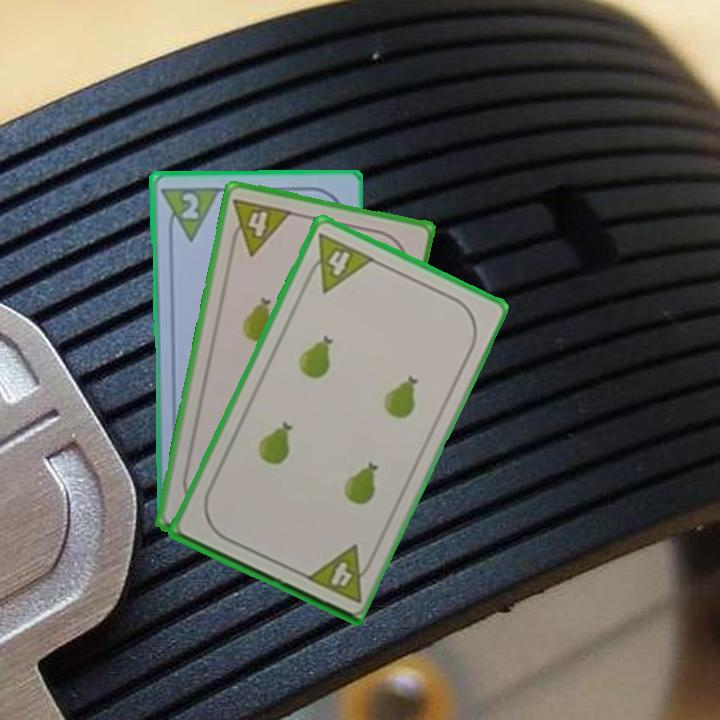2p: (157, 183, 222, 243)
4p: (300, 228, 377, 296), (301, 541, 378, 606), (225, 194, 295, 259)
